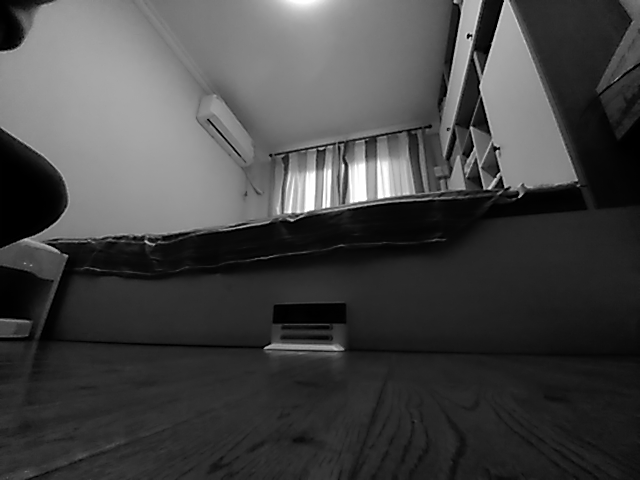Ruby: (262, 301, 349, 354)
